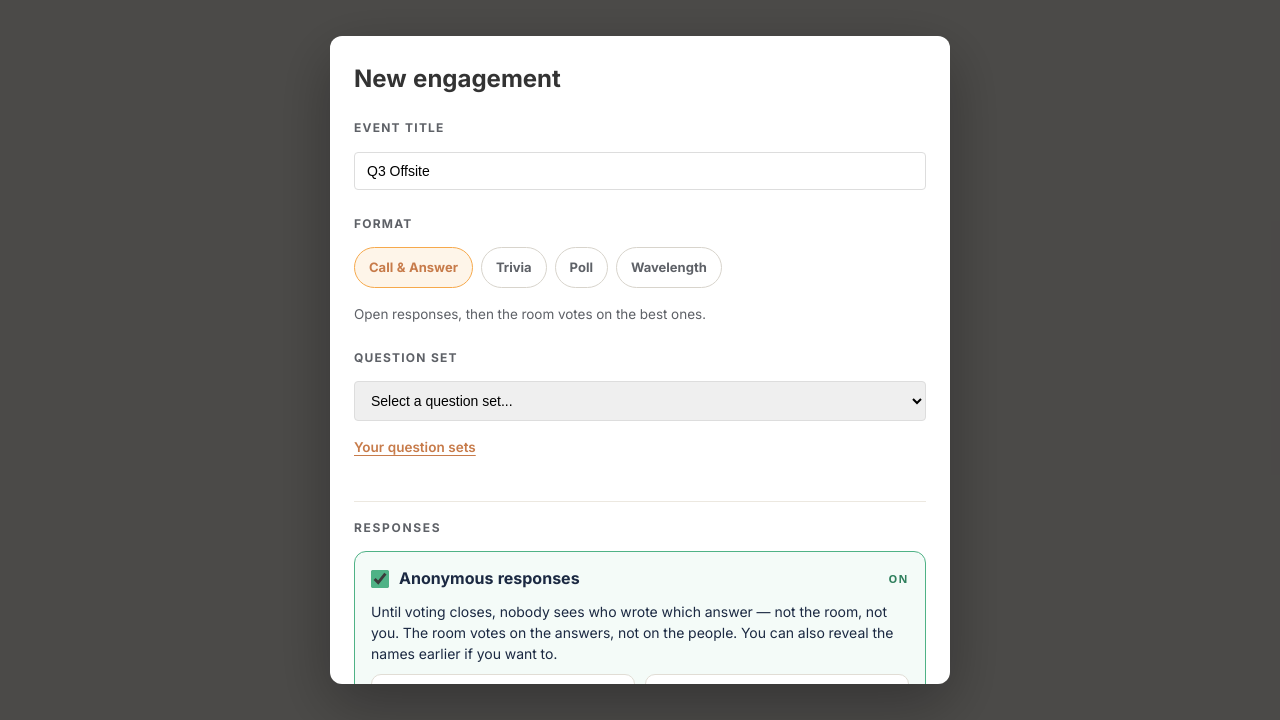
creating › is live once both exist
Select "Strategic Pricing Plays (47 questions)" in the dropdown labelled "Question set" at (640, 401), box [354,381,926,421]
(page scrolled)
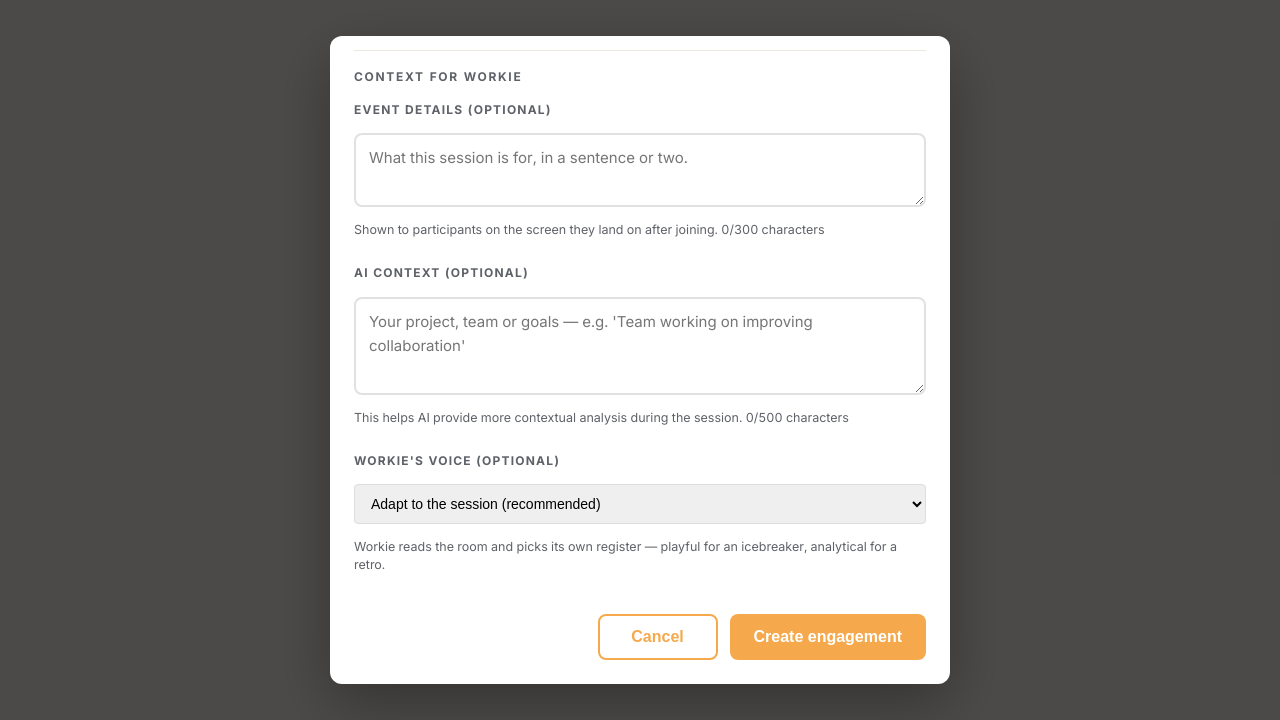
expect the button "Create engagement" is enabled: met, box [730,614,926,660]
